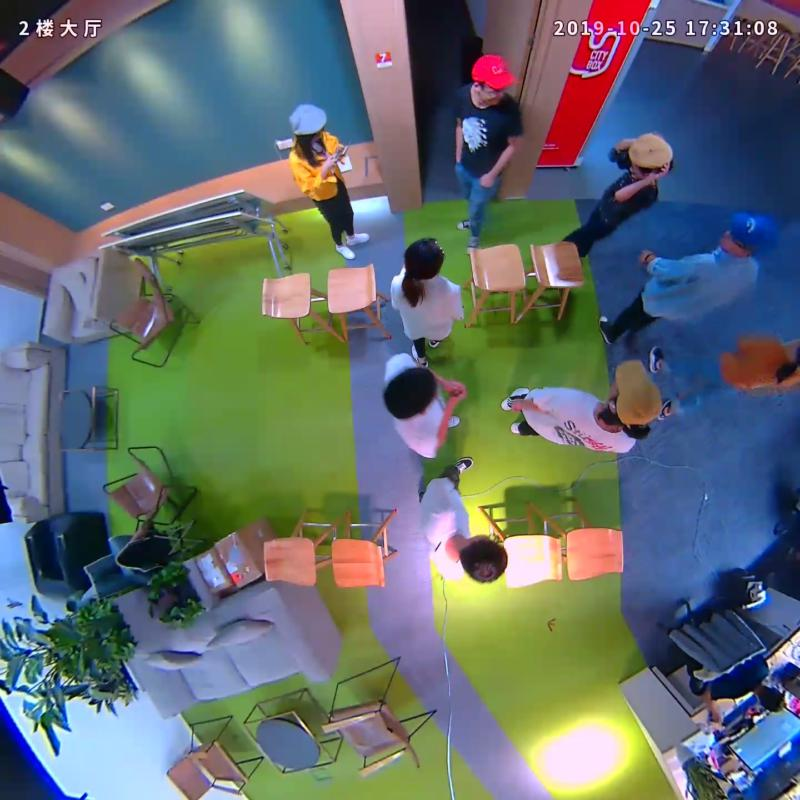head: (610, 358, 662, 427), (382, 364, 439, 419), (718, 211, 778, 258), (469, 53, 516, 107), (459, 534, 508, 583), (625, 133, 674, 179), (404, 236, 444, 279), (287, 101, 326, 145)
